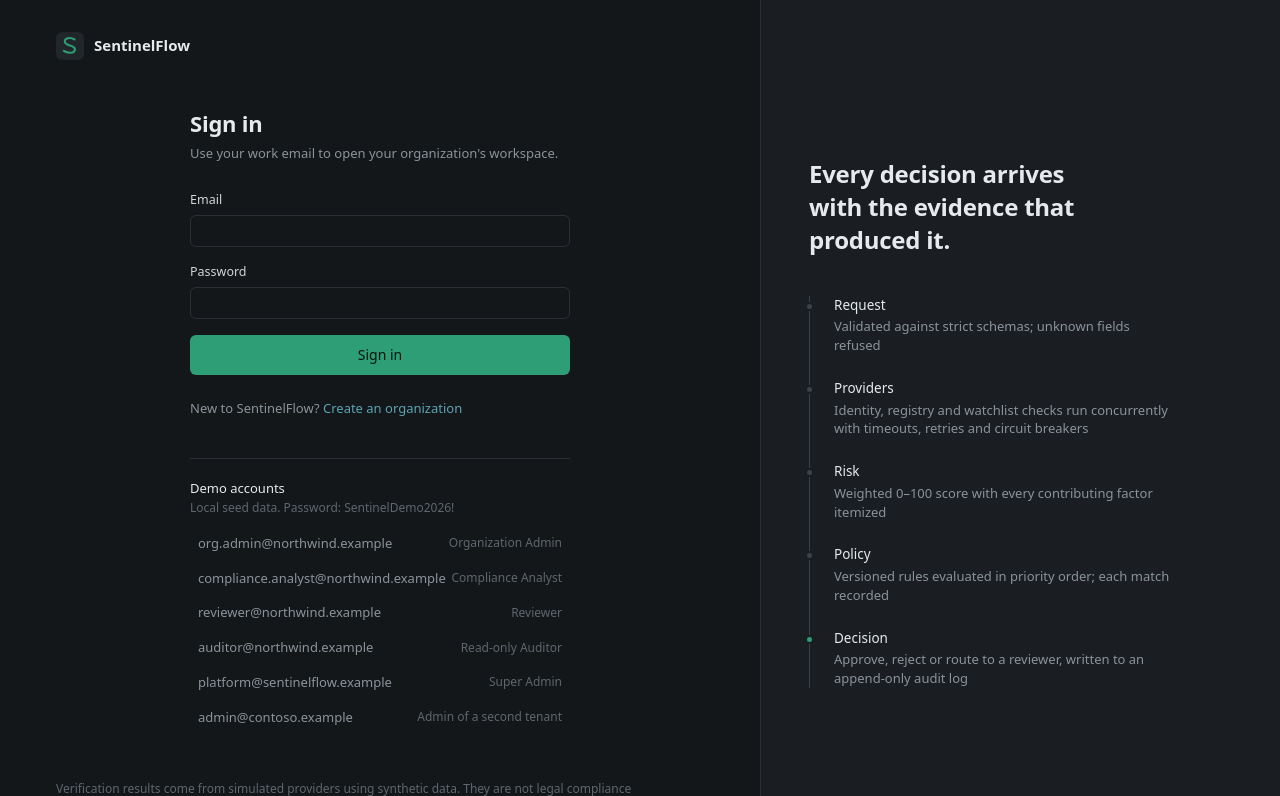
Test case: login › fills credentials from a demo account
The width and height of the screenshot is (1280, 796).
What coordinates should you click on to do the following:
click the text "auditor@northwind.example"
I would click on:
 (286, 648)
Its box is 198,638 -> 374,657.
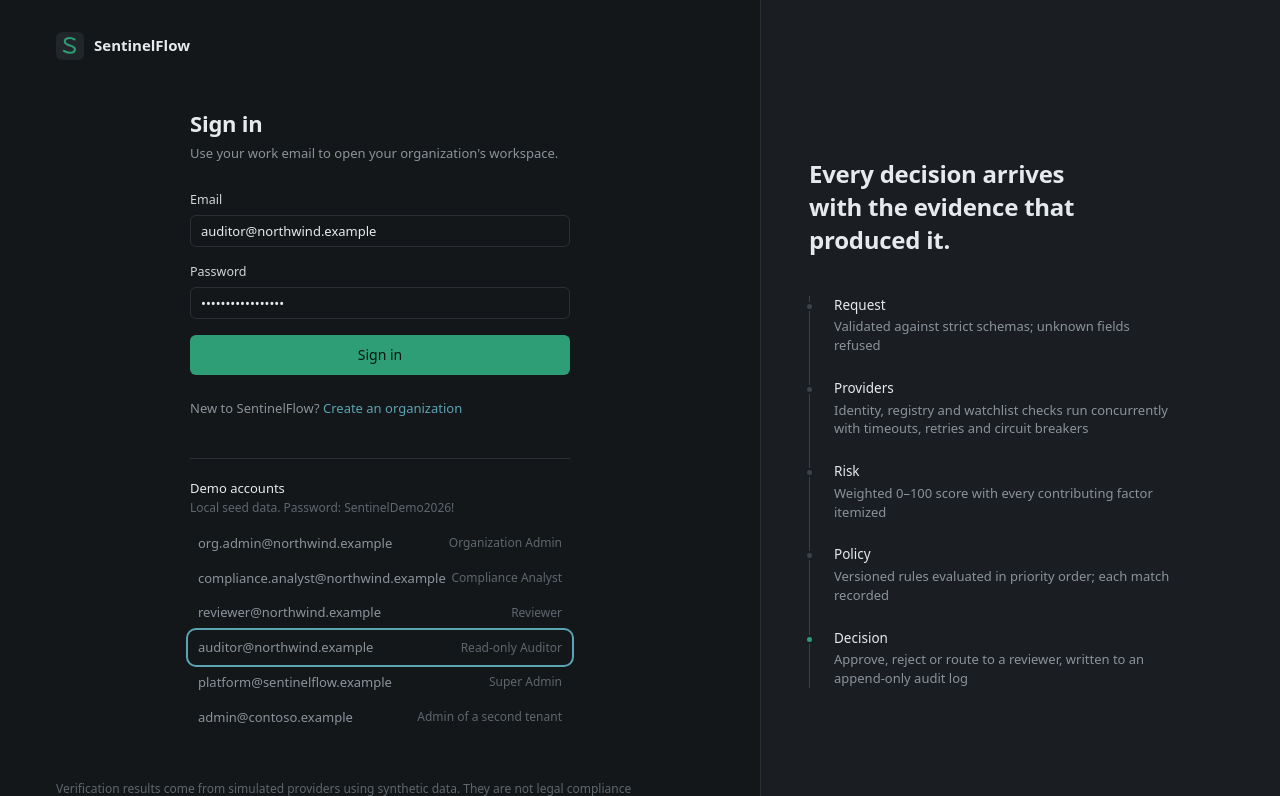
Expected: the field labelled "Email" holds "auditor@northwind.example", 190,215 -> 570,247
